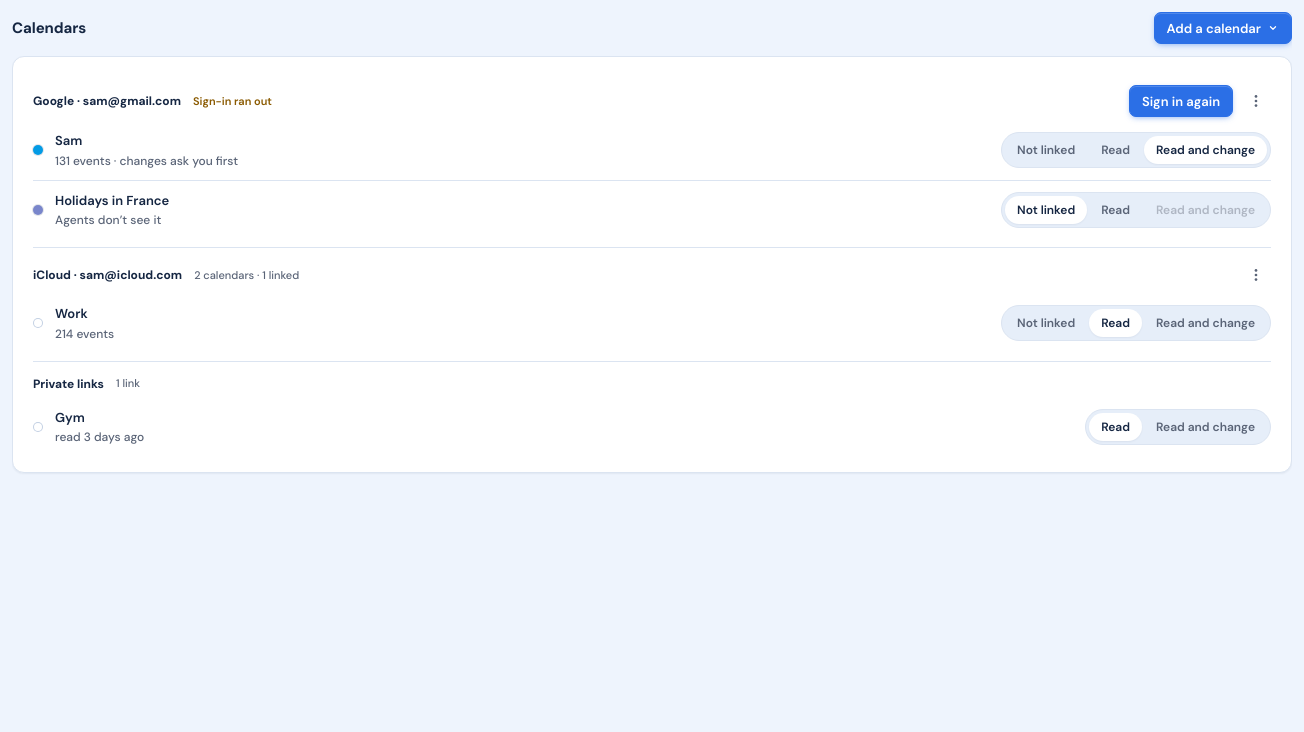
a menu › says a refusal under the section’s head
Expected: the text "Sam" is shown, [55,132,82,149]
Click the button "Add a calendar" at (1223,28), box [1154,12,1292,44]
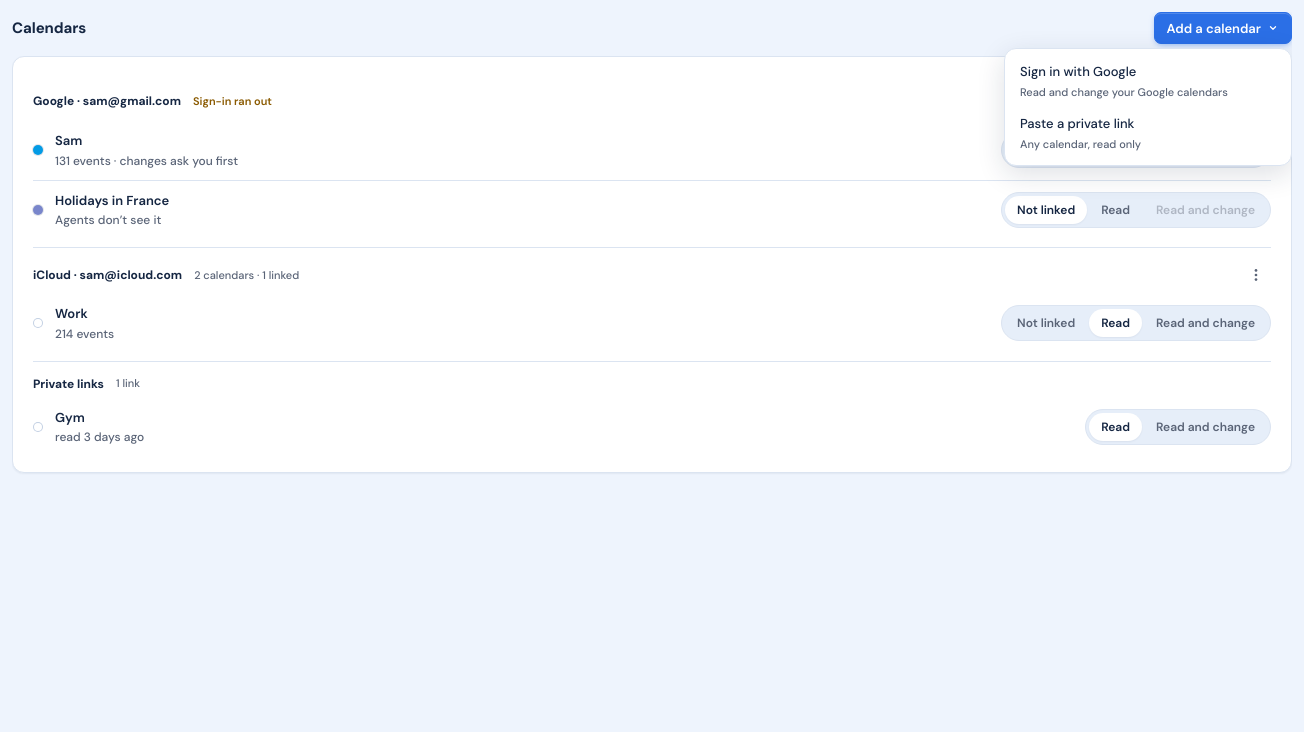
Click the menu item "Sign in with Google Read and change your Google calendars" at (1124,81), box [1020,63,1228,98]
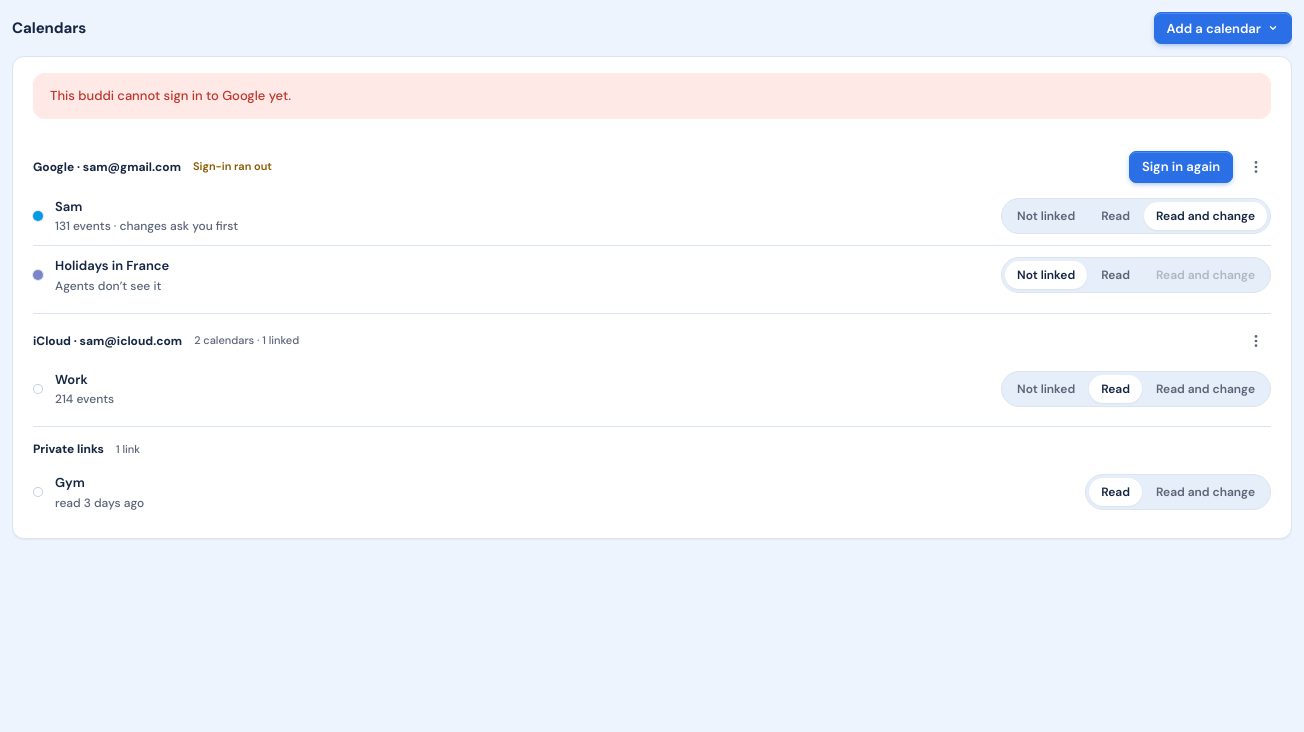
Expected: the text "This buddi cannot sign in to Google yet." is shown, [33,73,1271,118]
